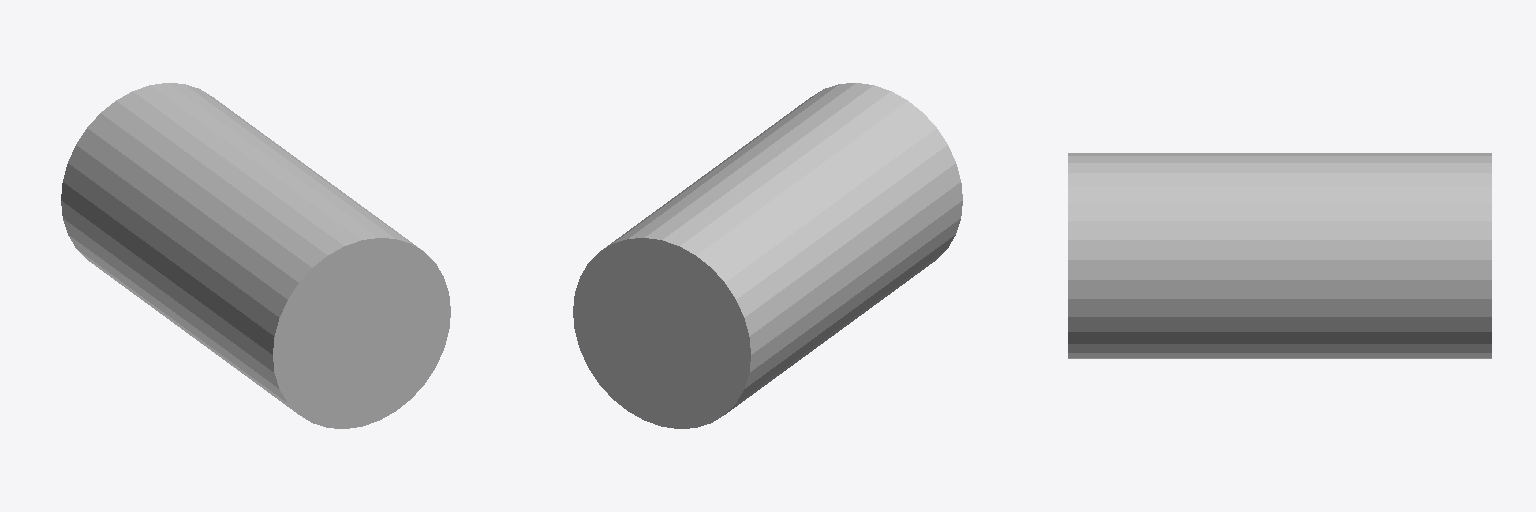
Rendered from log.obj.
3 renders of one model, left to right at view 1: azimuth 30°, elevation 25°; view 2: azimuth 150°, elevation 25°; view 3: azimuth 270°, elevation 25°, orthographic.
Visible parts, largest first — view 1: Cylinder; view 2: Cylinder; view 3: Cylinder.
Part boxes in pixels (x1,y1,x2,y2): Cylinder: (61, 83, 450, 428); Cylinder: (573, 83, 962, 428); Cylinder: (1068, 153, 1491, 358).
Bounding box in the file's own units: 0.5993 × 0.5993 × 1.23.